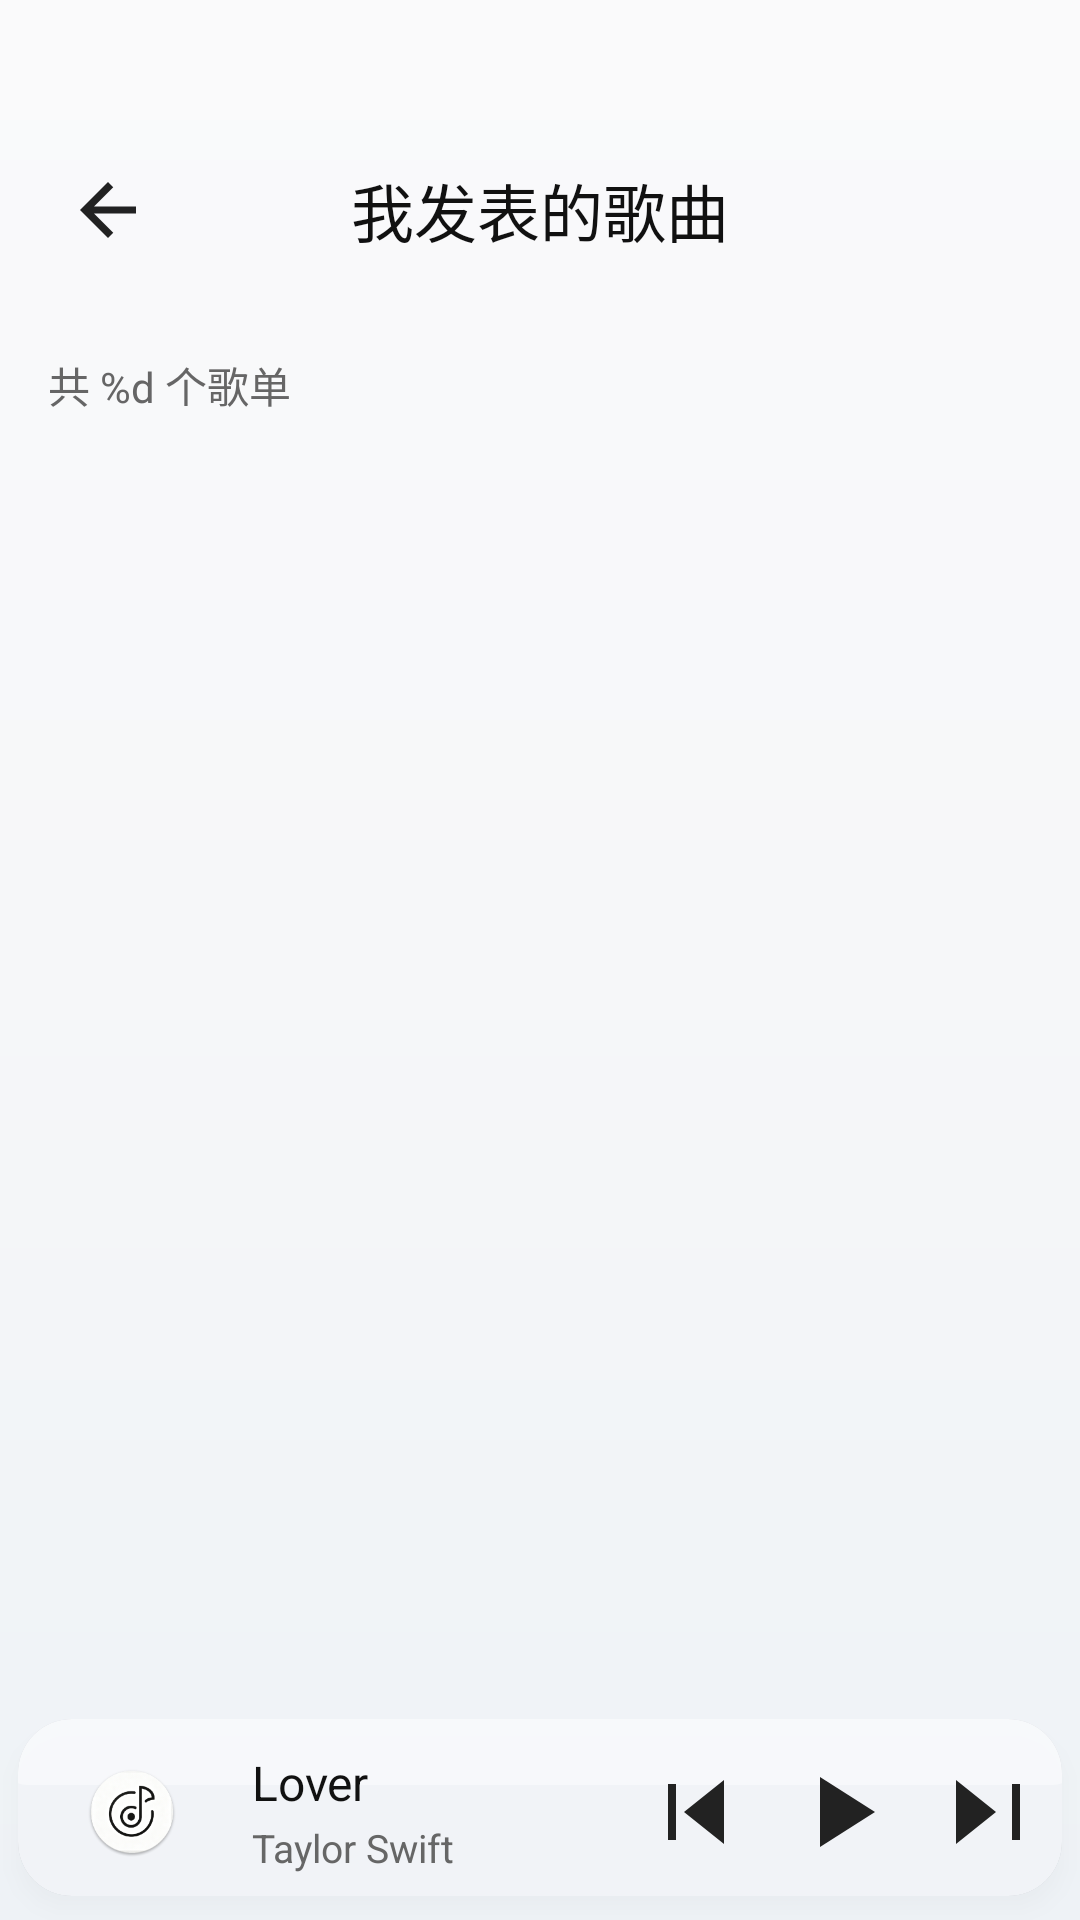

Point at icon controls on the screen. Image size 1080*1920, points as point (x, y).
next: point (988, 1812)
play triangle: point (847, 1812)
prev: point (696, 1812)
返回上一页: point (108, 210)
